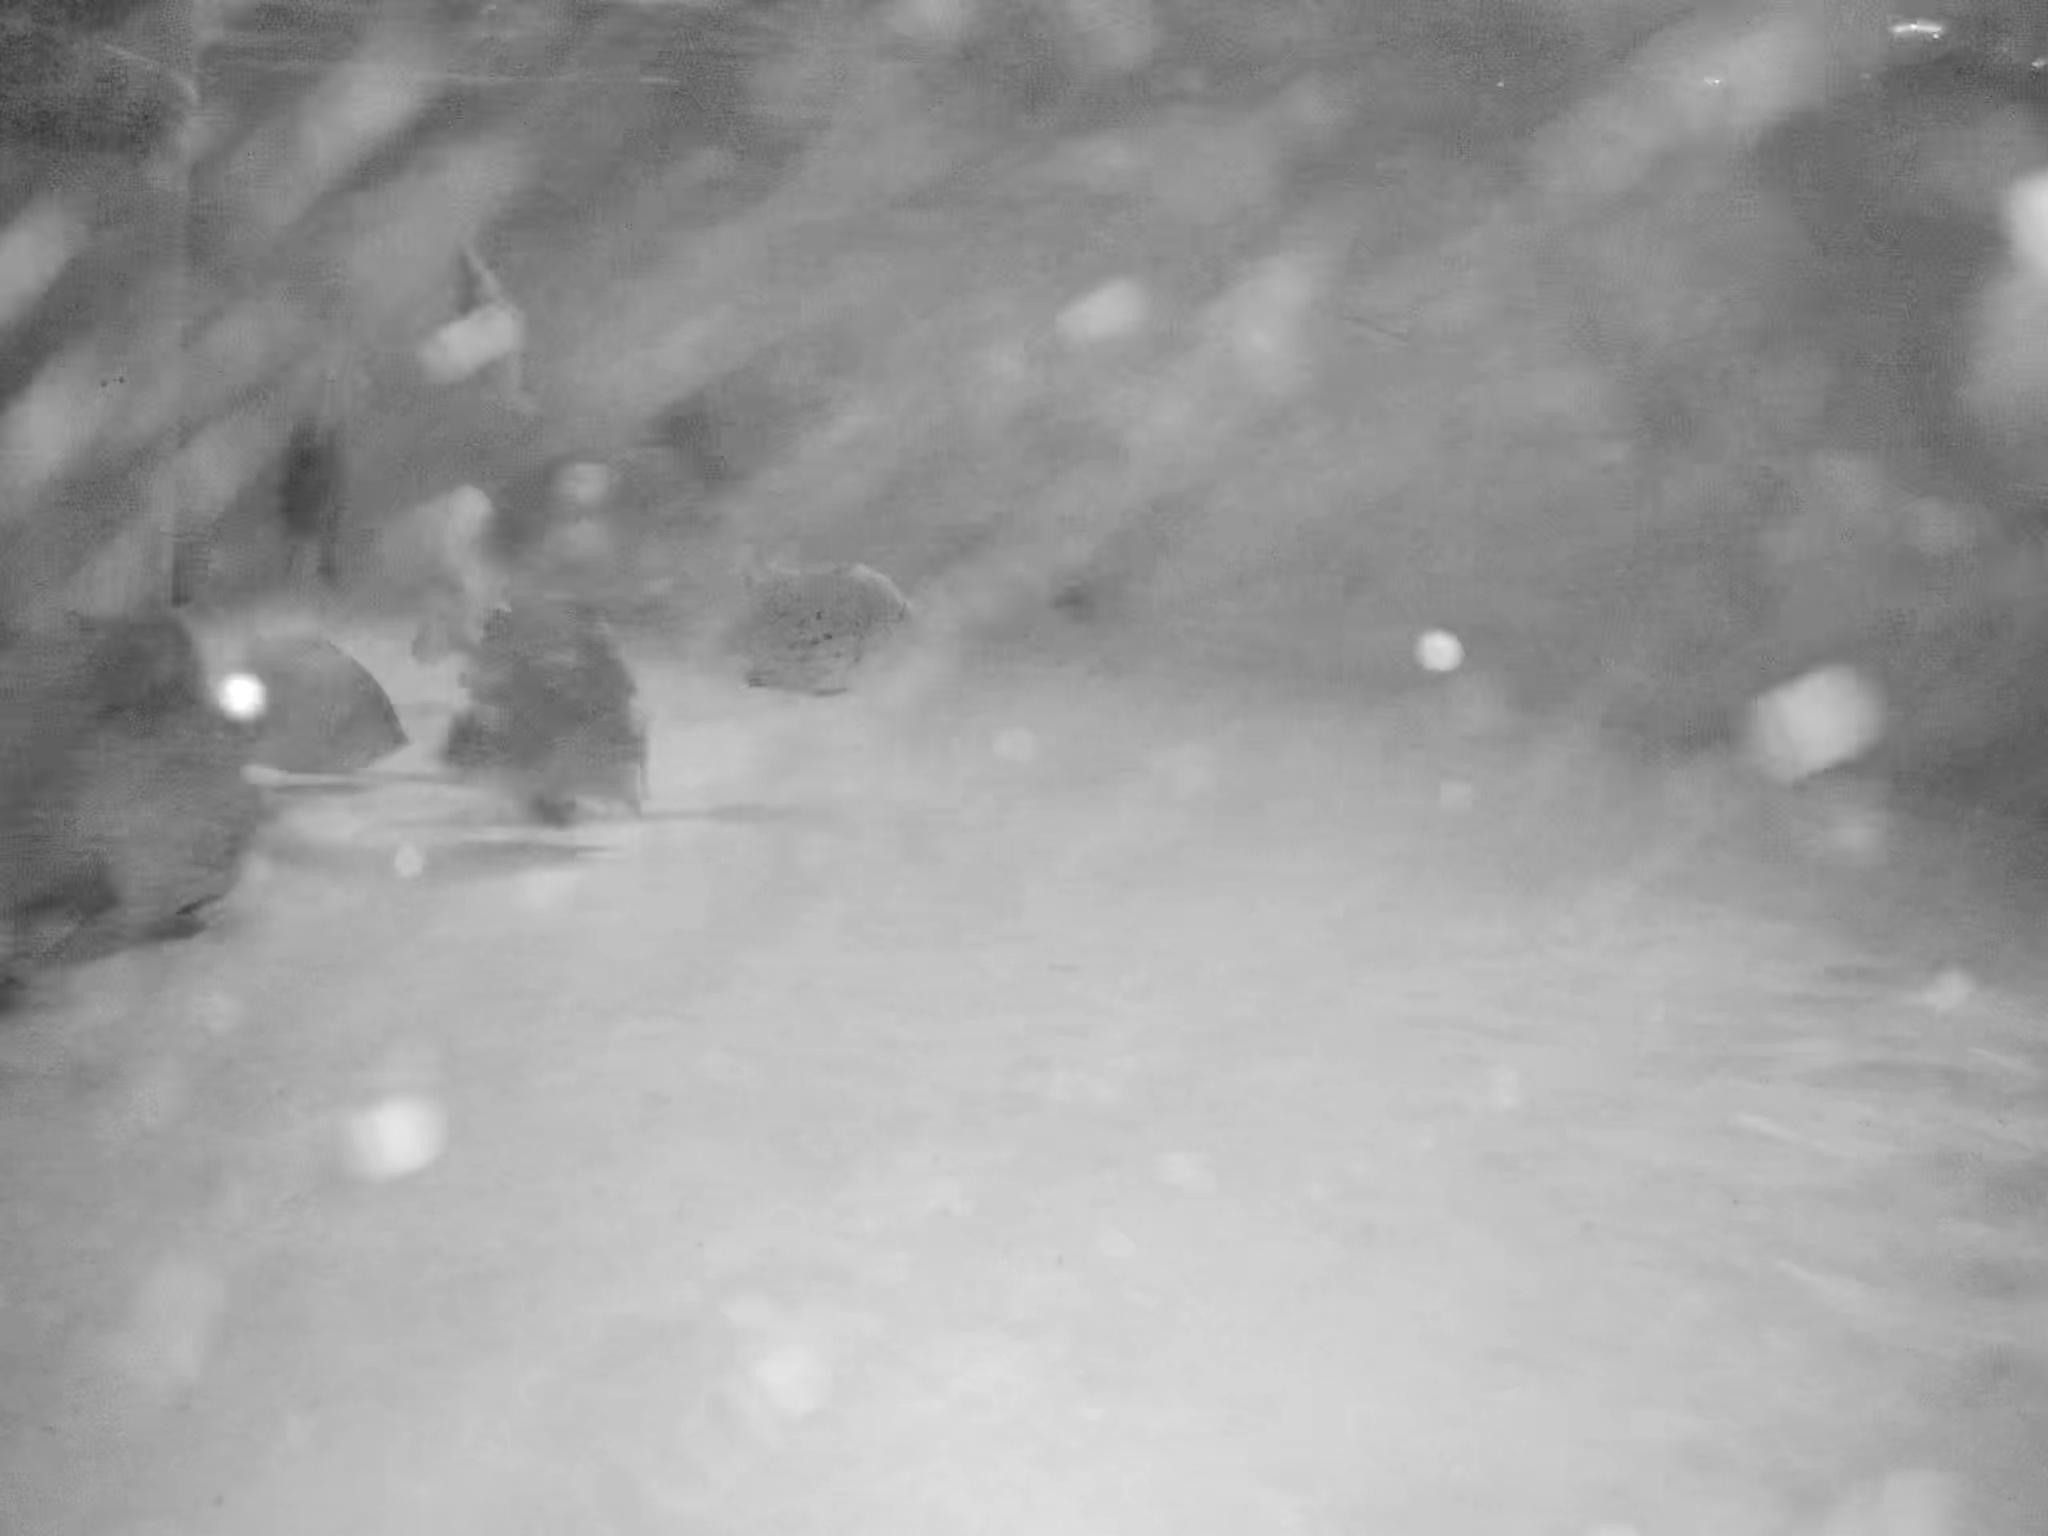fish: (26, 716, 268, 978), (448, 595, 660, 866), (200, 608, 426, 800), (714, 549, 948, 707)
